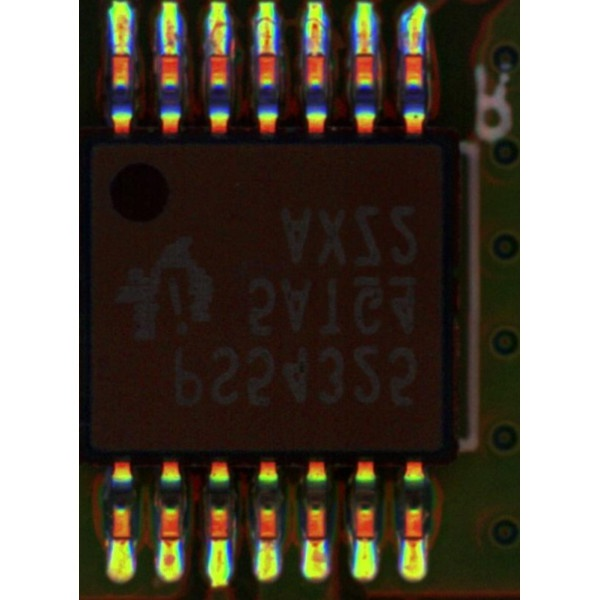Bad_podu: (357, 39, 371, 64), (308, 526, 322, 548), (407, 528, 419, 552), (309, 41, 321, 65), (163, 528, 175, 550), (115, 41, 125, 67), (263, 529, 275, 550), (261, 40, 271, 65), (213, 42, 223, 66)
